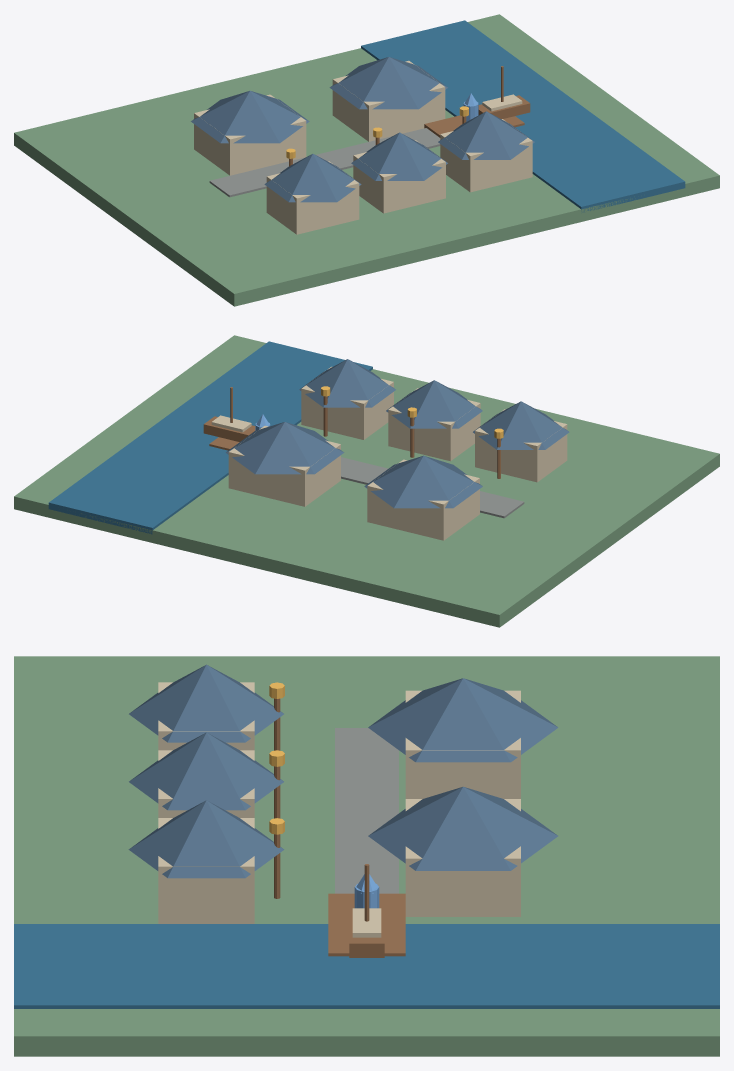
Rendered from village.glb.
The picture shows the model from 3 angles, top to bottom: view 1: azimuth 30°, elevation 25°; view 2: azimuth 150°, elevation 25°; view 3: azimuth 270°, elevation 25°; orthographic projection. The views are drawn at different scales.
Visible parts, largest first — view 1: village_ground, tidal_channel, granary_roof, archive_roof, granary_body, archive_body, mira_home_body, mira_home_roof, archive_room_roof, lorn_house_roof, archive_room_body, lorn_house_body (+3 smaller); view 2: village_ground, tidal_channel, granary_roof, archive_roof, archive_body, granary_body, mira_home_body, lorn_house_body, archive_room_roof, archive_room_body, lorn_house_roof, mira_home_roof (+2 smaller); view 3: village_ground, tidal_channel, granary_roof, archive_roof, main_path, archive_room_roof, lorn_house_roof, mira_home_roof, archive_body, archive_room_body, granary_body, dock (+4 smaller).
Part boxes in pixels (x1,y1,x2,y2): village_ground: [14, 14, 719, 306]; tidal_channel: [361, 20, 685, 212]; granary_roof: [191, 90, 309, 143]; archive_roof: [329, 57, 448, 109]; granary_body: [194, 94, 306, 175]; archive_body: [332, 60, 445, 141]; mira_home_body: [266, 161, 359, 234]; mira_home_roof: [264, 154, 361, 202]; archive_room_roof: [438, 111, 534, 159]; lorn_house_roof: [351, 132, 447, 180]; archive_room_body: [440, 119, 532, 192]; lorn_house_body: [353, 140, 445, 213]; village_ground: [14, 335, 719, 627]; tidal_channel: [48, 341, 372, 534]; granary_roof: [364, 455, 482, 508]; archive_roof: [225, 422, 344, 474]; archive_body: [228, 425, 340, 506]; granary_body: [367, 459, 479, 540]; mira_home_body: [475, 409, 567, 482]; lorn_house_body: [388, 388, 480, 461]; archive_room_roof: [299, 359, 395, 407]; archive_room_body: [301, 366, 393, 439]; lorn_house_roof: [386, 380, 482, 428]; mira_home_roof: [473, 401, 569, 449]; village_ground: [14, 656, 719, 1056]; tidal_channel: [14, 924, 719, 1008]; granary_roof: [368, 678, 558, 762]; archive_roof: [368, 786, 558, 870]; main_path: [335, 728, 398, 893]; archive_room_roof: [128, 800, 284, 878]; lorn_house_roof: [129, 732, 283, 810]; mira_home_roof: [129, 664, 283, 742]; archive_body: [405, 799, 520, 916]; archive_room_body: [158, 818, 254, 923]; granary_body: [405, 690, 520, 798]; dock: [328, 893, 405, 956].
Bounding box in the file's own units: 28 × 4.15 × 22.
